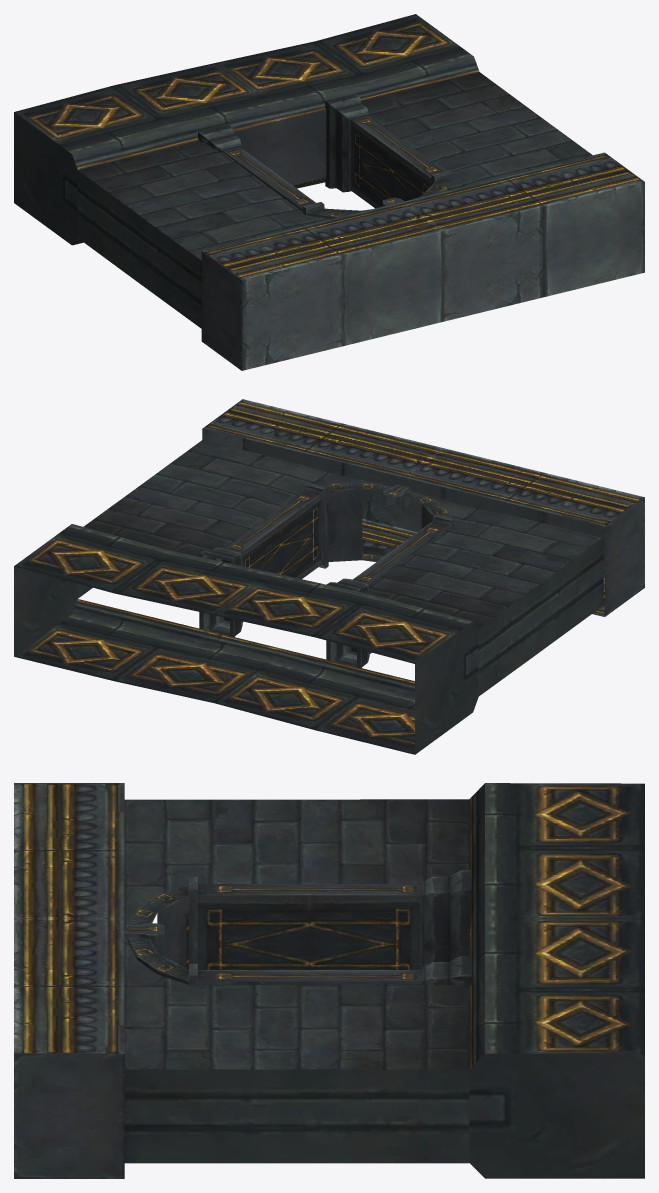
Rendered from tanxian_fuben_257_qiang_02.obj.
The picture shows the model from 3 angles, top to bottom: view 1: azimuth 30°, elevation 25°; view 2: azimuth 150°, elevation 25°; view 3: azimuth 270°, elevation 25°; orthographic projection. The views are drawn at different scales.
Visible parts, largest first — view 1: tanxian_fuben_257_qiang_02; view 2: tanxian_fuben_257_qiang_02; view 3: tanxian_fuben_257_qiang_02.
Part boxes in pixels (<box>): tanxian_fuben_257_qiang_02: <box>14,14,644,370</box>; tanxian_fuben_257_qiang_02: <box>14,399,644,754</box>; tanxian_fuben_257_qiang_02: <box>14,783,644,1178</box>.
Bounding box in the file's own units: 296 × 65.37 × 291.
Materials: 3 (3 with a texture image).
